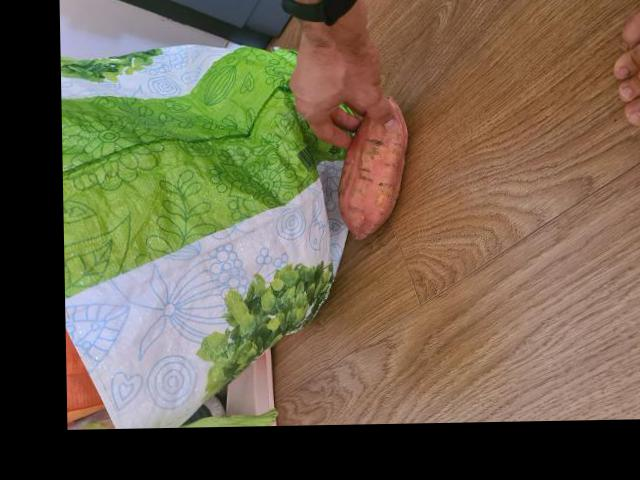sweet_potato: (335, 97, 410, 243)
